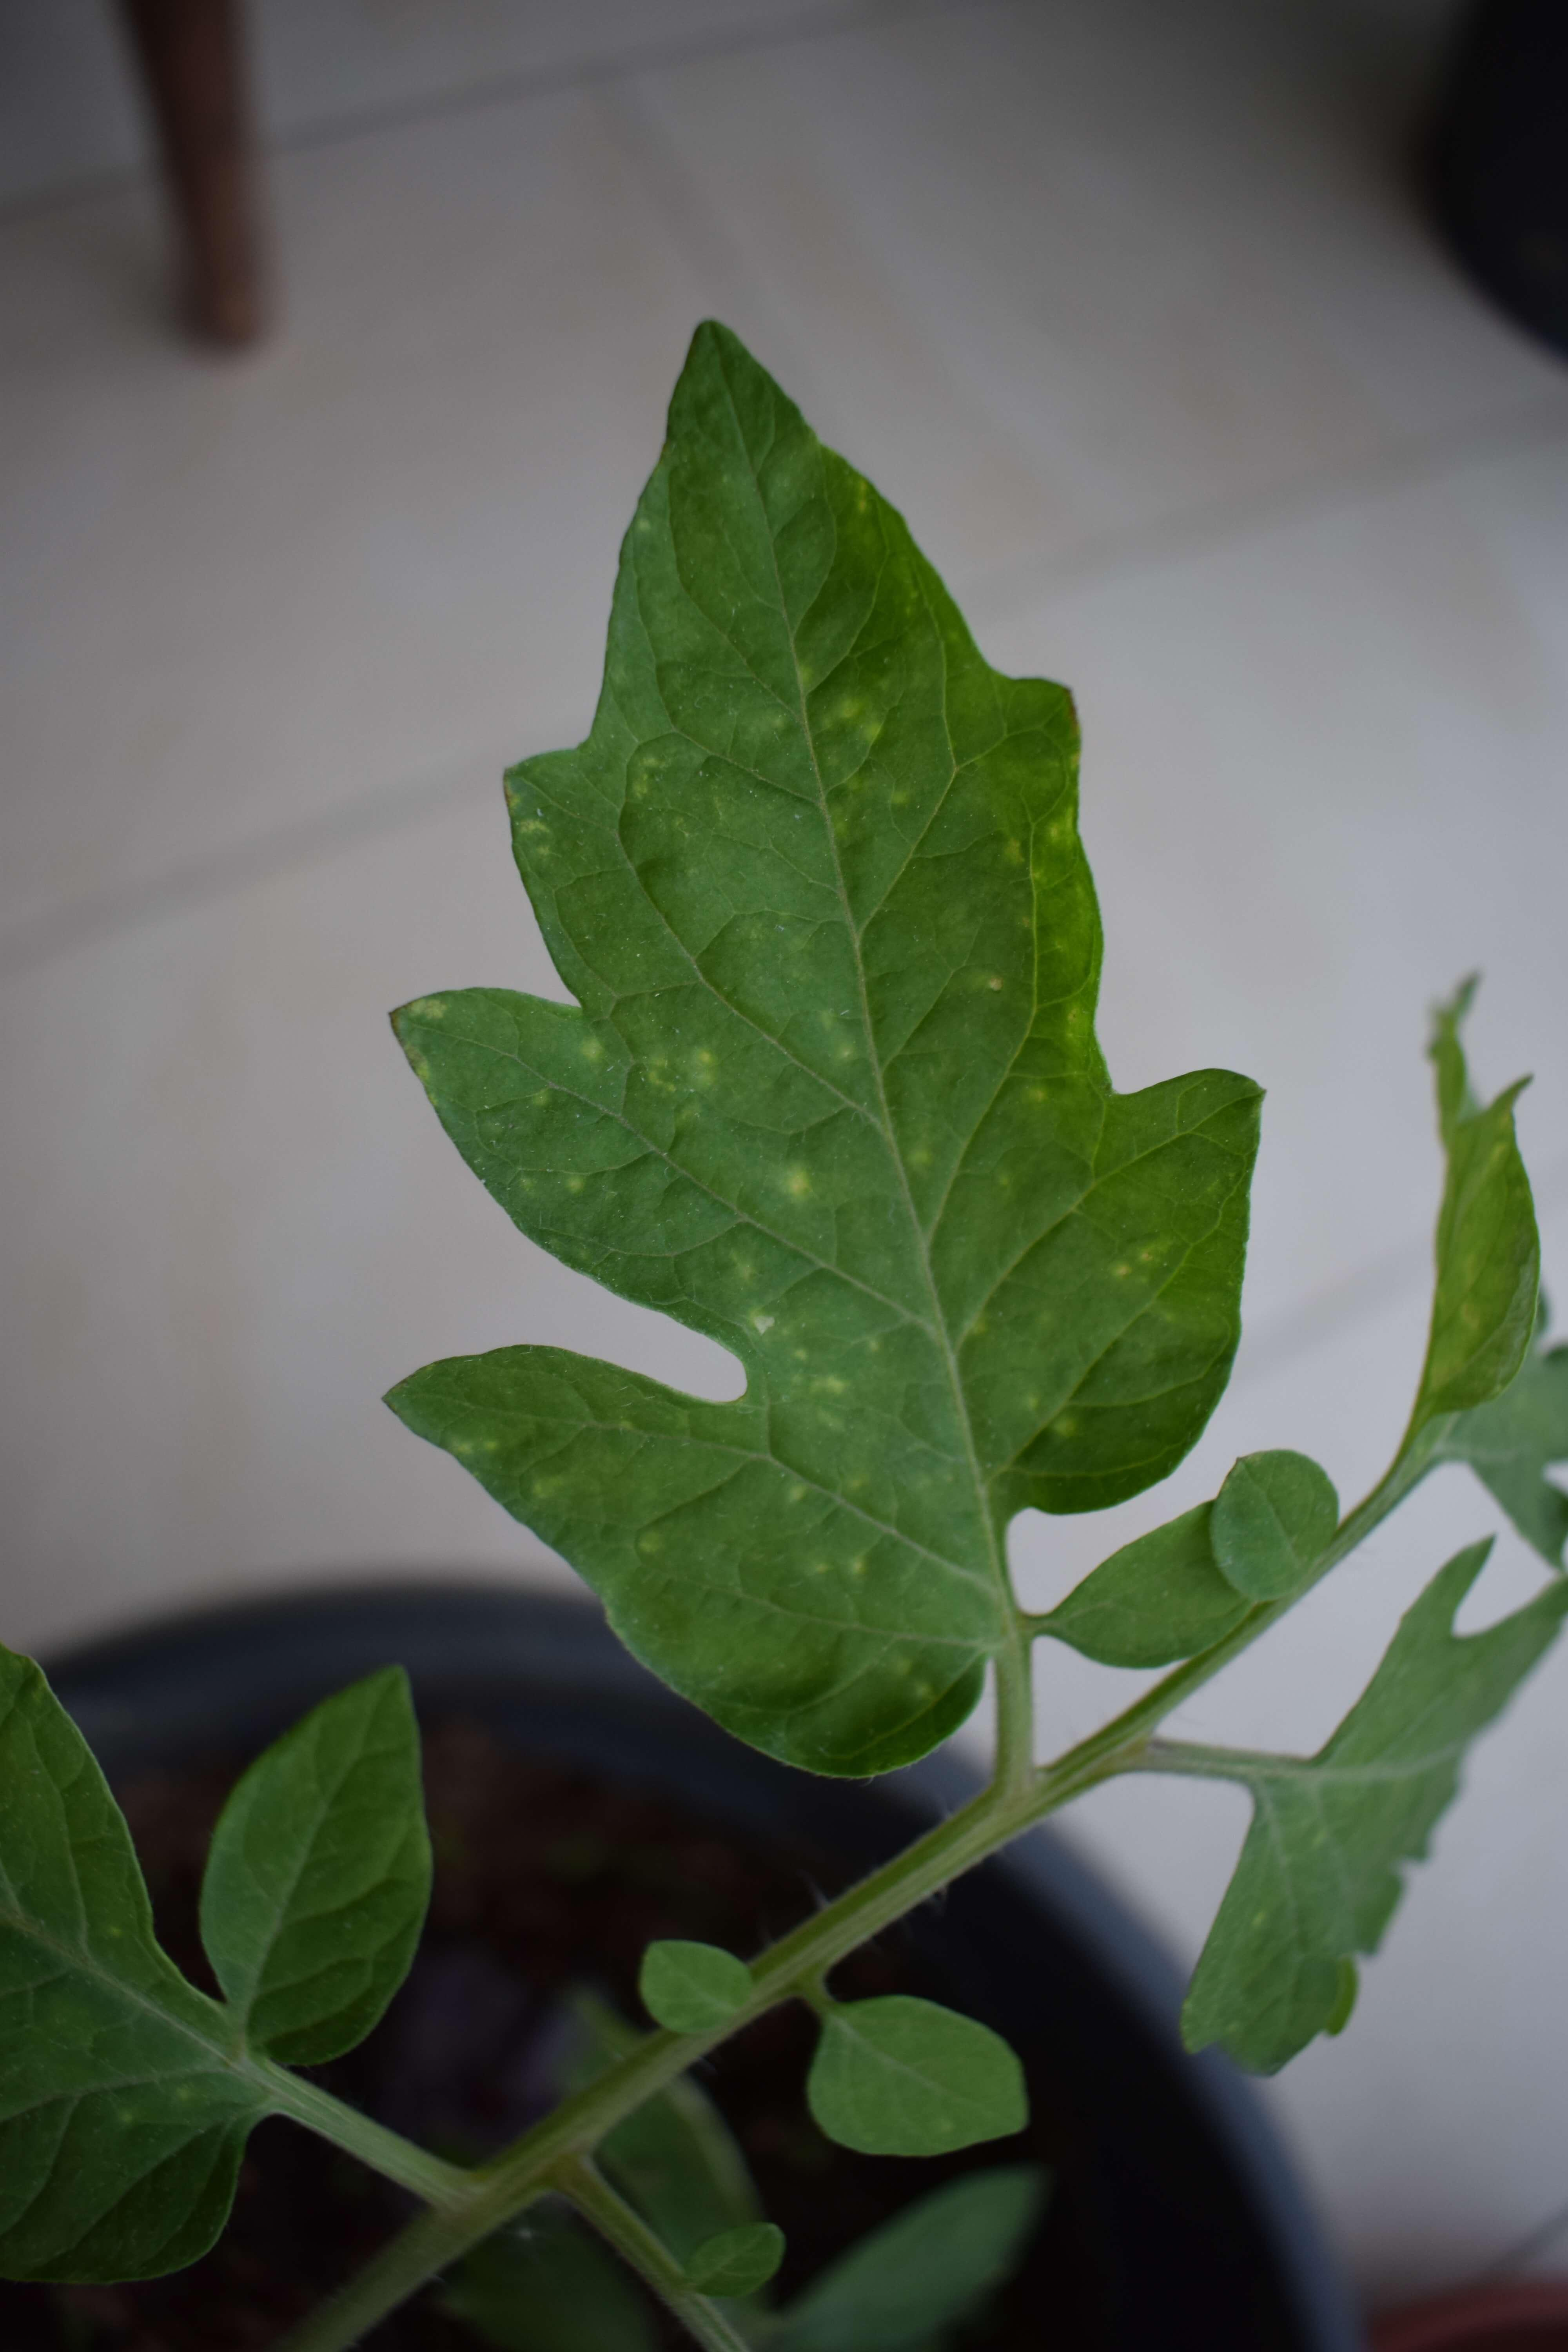Tomato mold leaf: (359, 256, 1277, 1769)
